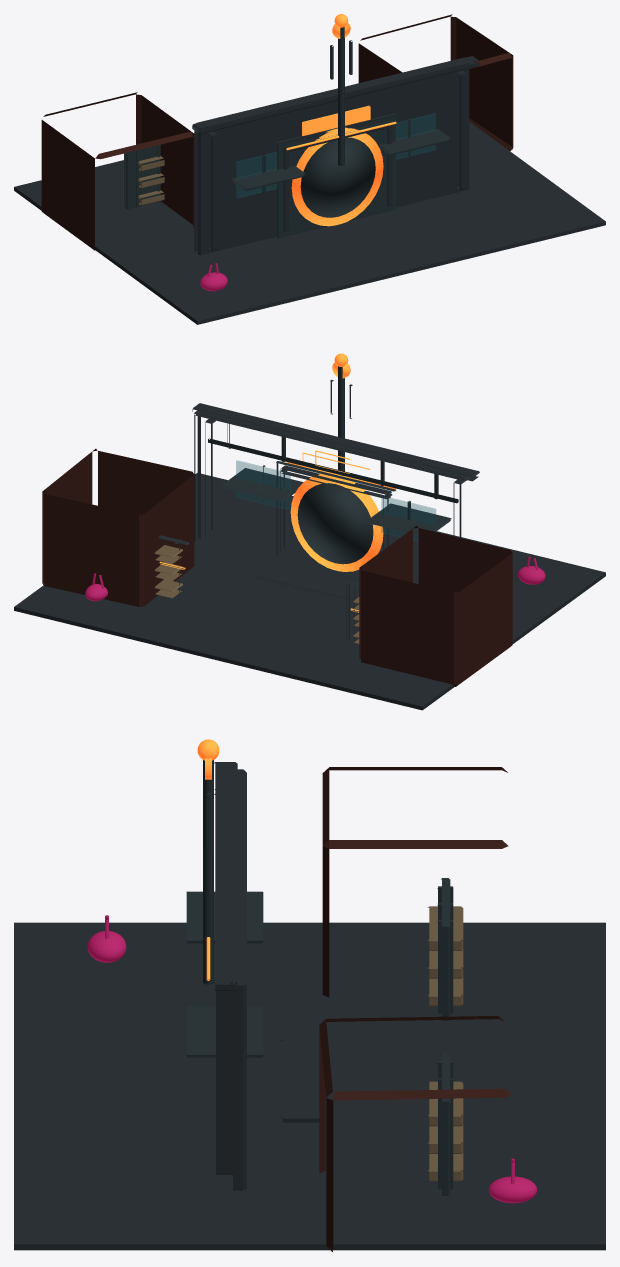
Rendered from archive.gltf.
The picture shows the model from 3 angles, top to bottom: view 1: azimuth 30°, elevation 25°; view 2: azimuth 150°, elevation 25°; view 3: azimuth 270°, elevation 25°; orthographic projection. The views are drawn at different scales.
Visible parts, largest first — view 1: ArchiveFloor, ArchiveCivicFacade, ArchiveBrickWingL, ArchiveBrickWingR, ArchiveVaultDoor, ArchiveVaultInset, ArchiveFacadeCornice, ArchiveVaultDoorRing, ArchiveStack0, ArchiveFacadeWindowL, ArchiveWindowFrameL, ArchiveFacadePilasterL (+8 smaller); view 2: ArchiveFloor, ArchiveBrickWingL, ArchiveBrickWingR, ArchiveVaultDoor, ArchiveFacadeCornice, ArchiveCivicFacade, ArchiveVaultDoorRing, ArchiveWindowFrameR, ArchiveWindowFrameL, ArchiveFacadeWindowR, ArchiveVaultSteps, ArchiveFacadeServiceBand (+4 smaller); view 3: ArchiveFloor, ArchiveFacadeCornice, ArchiveCivicFacade, ArchiveBrickWingR, ArchiveBrickWingL, ArchiveFacadePilasterR, ArchiveVaultSteps, ArchiveWindowFrameR, ArchiveRoofBeacon, ArchiveWindowFrameL, ArchiveStack0, ArchiveStack1 (+6 smaller).
Part boxes in pixels (x1,y1,x2,y2): ArchiveFloor: [14, 121, 605, 324]; ArchiveCivicFacade: [194, 57, 469, 255]; ArchiveBrickWingL: [41, 92, 194, 250]; ArchiveBrickWingR: [358, 14, 513, 151]; ArchiveVaultDoor: [300, 137, 375, 217]; ArchiveVaultInset: [276, 113, 395, 238]; ArchiveFacadeCornice: [192, 56, 479, 133]; ArchiveVaultDoorRing: [291, 127, 383, 226]; ArchiveStack0: [124, 144, 160, 209]; ArchiveFacadeWindowL: [236, 152, 276, 198]; ArchiveWindowFrameL: [231, 165, 306, 190]; ArchiveFacadePilasterL: [207, 131, 218, 250]; ArchiveFloor: [14, 473, 605, 710]; ArchiveBrickWingL: [359, 526, 512, 686]; ArchiveBrickWingR: [42, 448, 194, 606]; ArchiveVaultDoor: [297, 483, 373, 564]; ArchiveFacadeCornice: [192, 403, 479, 481]; ArchiveCivicFacade: [194, 411, 469, 541]; ArchiveVaultDoorRing: [290, 473, 383, 571]; ArchiveWindowFrameR: [221, 468, 303, 502]; ArchiveWindowFrameL: [366, 503, 451, 535]; ArchiveFacadeWindowR: [236, 460, 290, 509]; ArchiveVaultSteps: [257, 568, 358, 601]; ArchiveFacadeServiceBand: [208, 438, 458, 503]; ArchiveFloor: [14, 922, 605, 1250]; ArchiveFacadeCornice: [213, 762, 237, 990]; ArchiveCivicFacade: [229, 769, 246, 1190]; ArchiveBrickWingR: [319, 1016, 511, 1251]; ArchiveBrickWingL: [322, 767, 508, 997]; ArchiveFacadePilasterR: [214, 989, 232, 1174]; ArchiveVaultSteps: [280, 1039, 319, 1122]; ArchiveWindowFrameR: [186, 1006, 263, 1057]; ArchiveRoofBeacon: [203, 760, 213, 984]; ArchiveWindowFrameL: [186, 891, 263, 943]; ArchiveStack0: [440, 878, 450, 1020]; ArchiveStack1: [440, 1053, 450, 1195].
Size of the model in its own units: 18.48 by 9.11 by 14.
